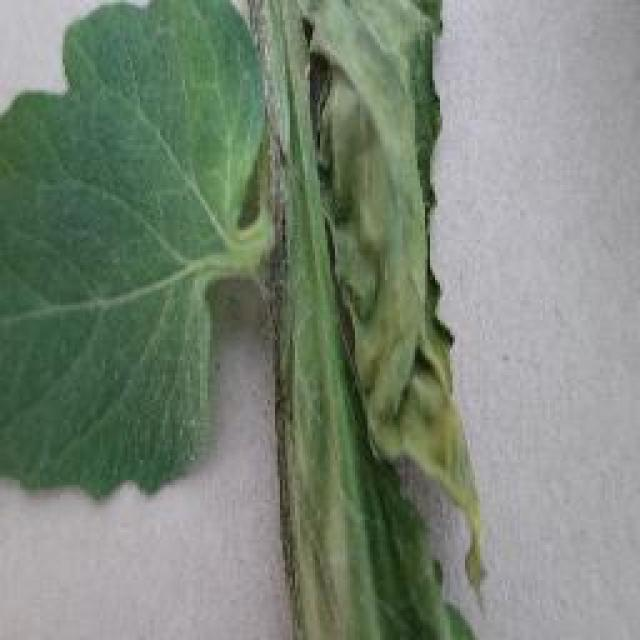Tomato Late Blight: (222, 70, 366, 265)
